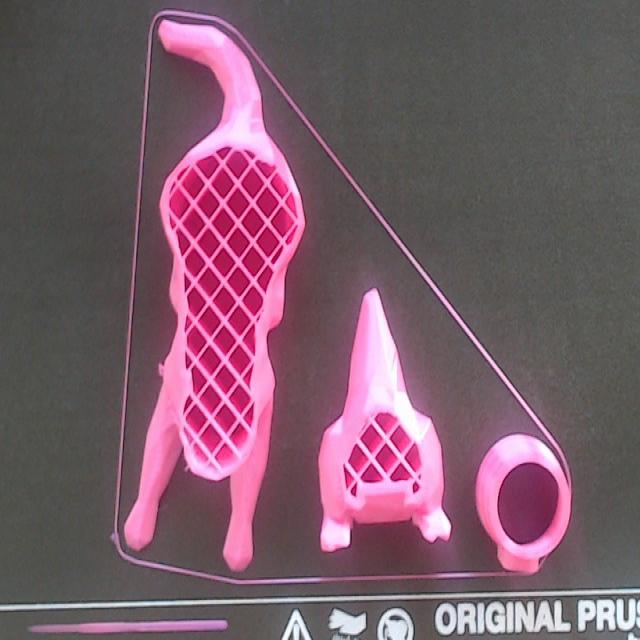mistake: (158, 363, 164, 377), (184, 464, 190, 472)
